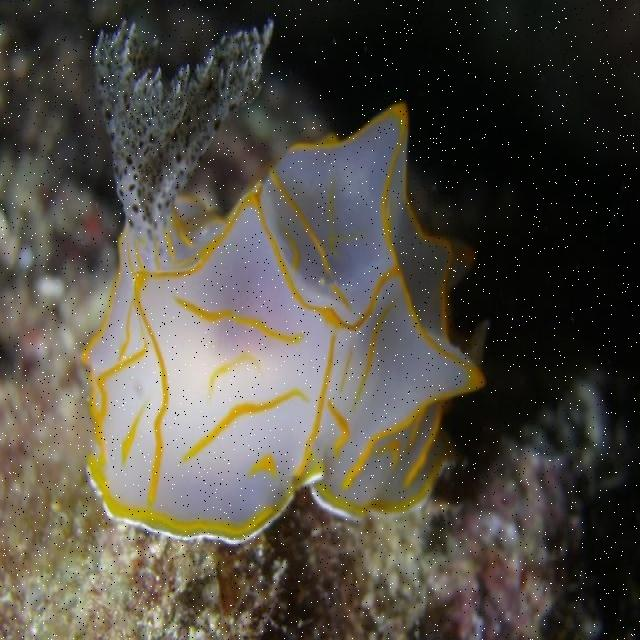reefs: (75, 18, 488, 546)
